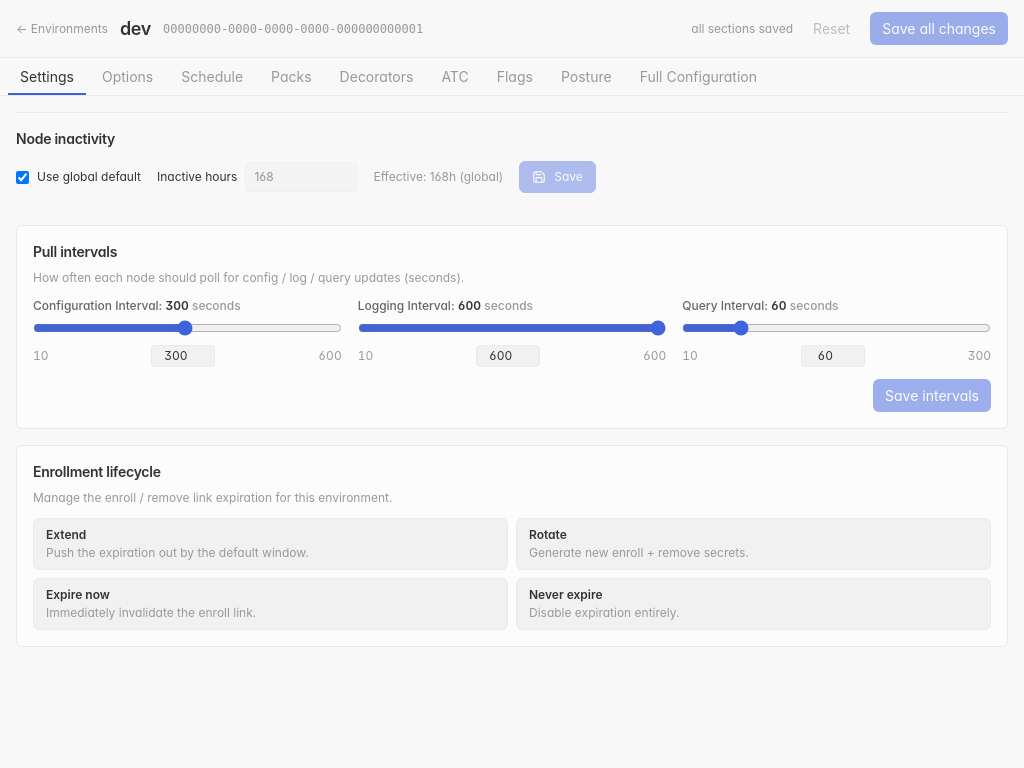
EnvConfigPage › distinguishes a profile load failure from an empty profile list
The image size is (1024, 768).
Click the tab "Schedule" at (212, 76), box [169, 58, 255, 95]
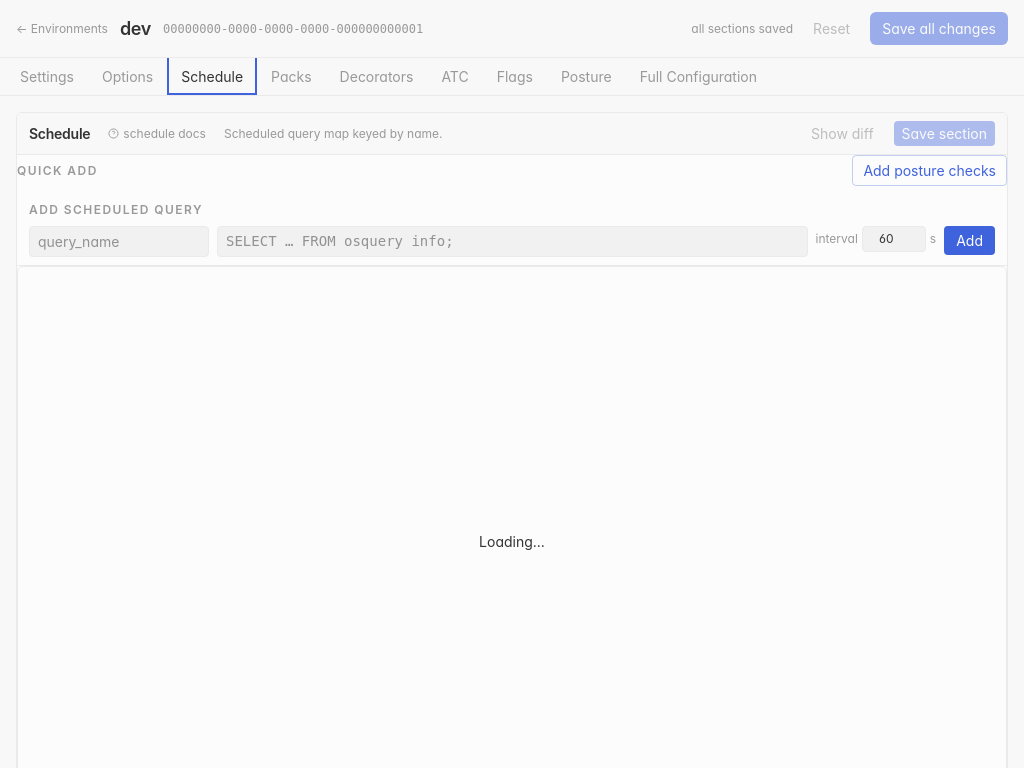
Click the button "Add posture checks" at (930, 170), box [852, 155, 1007, 186]
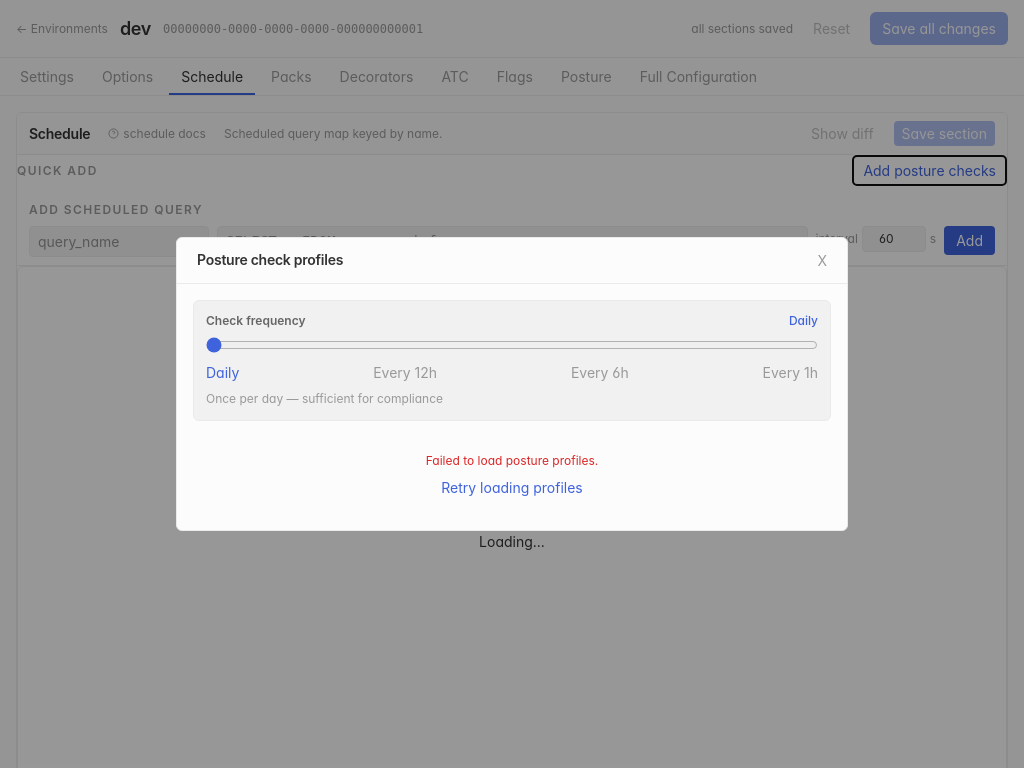
Expected: the text "Failed to load posture profiles." is shown, [426, 453, 598, 468]
Expected: the button "Retry loading profiles" is shown, [441, 477, 583, 498]
